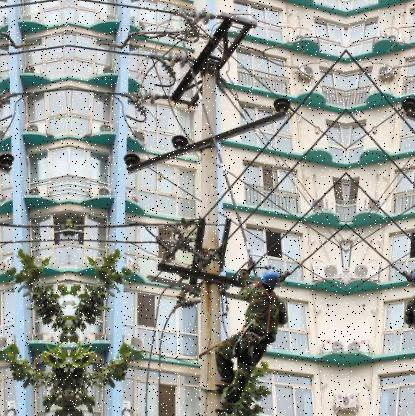helmet: (258, 267, 283, 291), (410, 267, 415, 292)
